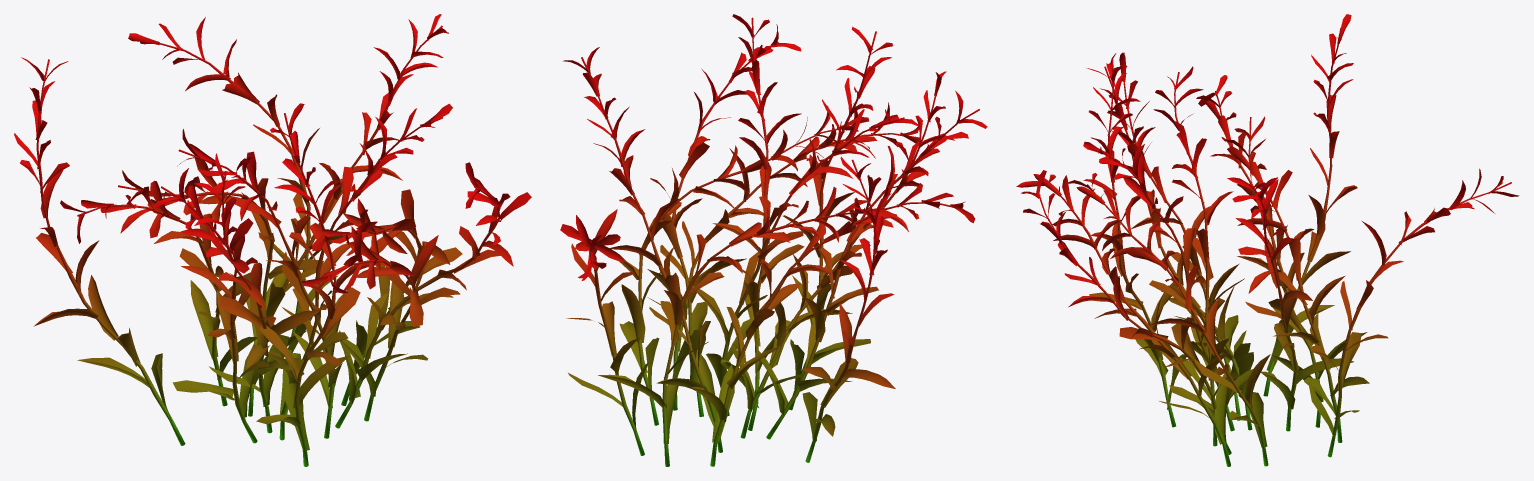
The model's file is Var10_LOD0.fbx.
3 renders of one model, left to right at view 1: azimuth 30°, elevation 25°; view 2: azimuth 150°, elevation 25°; view 3: azimuth 270°, elevation 25°, orthographic. The views are drawn at different scales.
Parts seen in each view (by area): view 1: _6qho_Var10_LOD0; view 2: _6qho_Var10_LOD0; view 3: _6qho_Var10_LOD0.
Part boxes in pixels (box(x1,y1,x2,y2)): _6qho_Var10_LOD0: box(14, 14, 531, 466); _6qho_Var10_LOD0: box(560, 14, 987, 466); _6qho_Var10_LOD0: box(1016, 14, 1519, 466).
Size of the model in its own units: 26.24 by 24.39 by 32.18.
